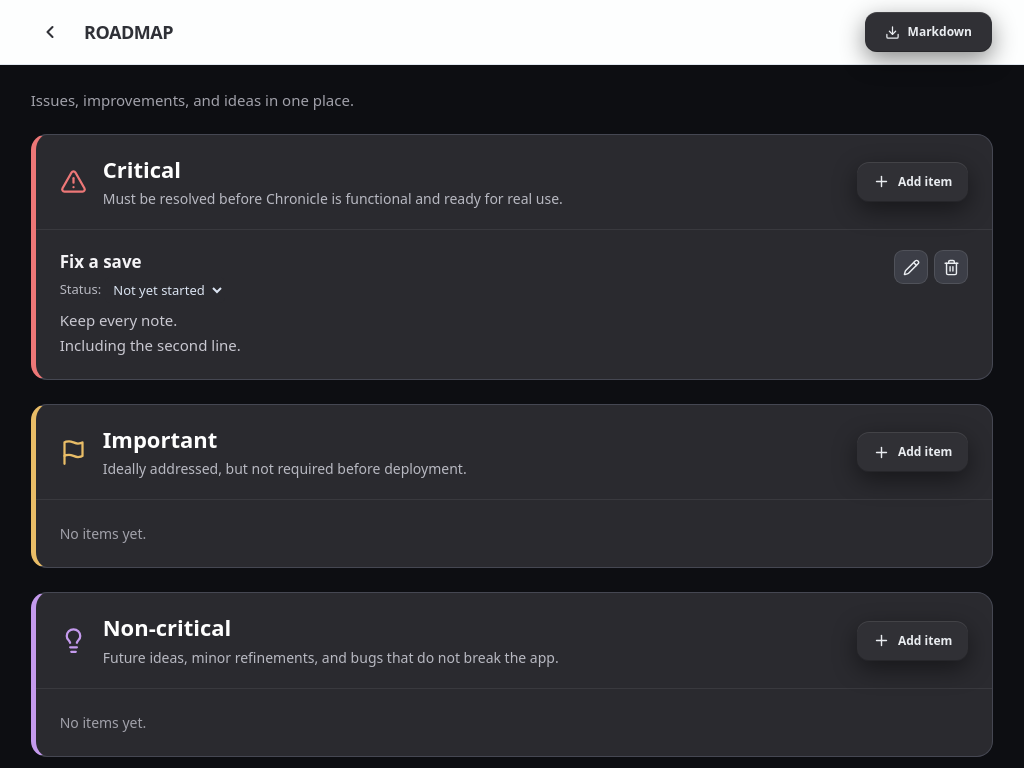
Test: Chronicle Roadmap › saves while a background read is pending and never replaces the acknowledged save with its late result
expect the heading "Critical" is shown: met, box [103,154,181,184]
Click the button named "Edit Fix a save". click: (911, 267)
box: [894,250,928,284]
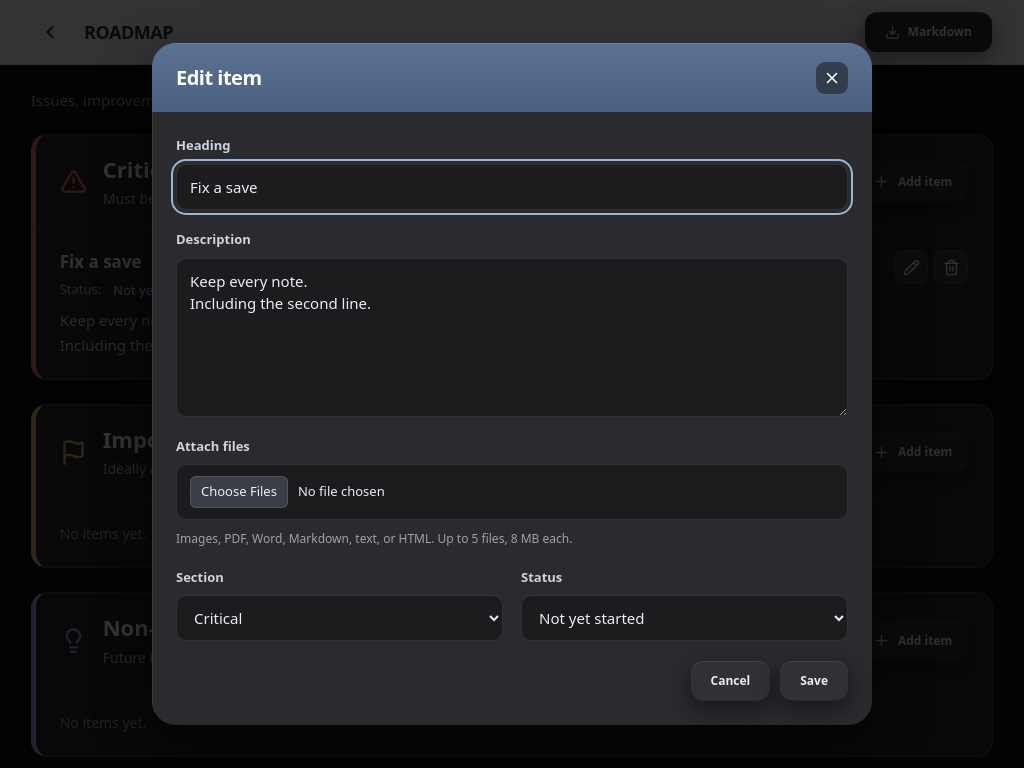
Replace the text in the field labelled "Heading" with "Saved while refreshing". click: (512, 187)
box: [176,164,848,210]
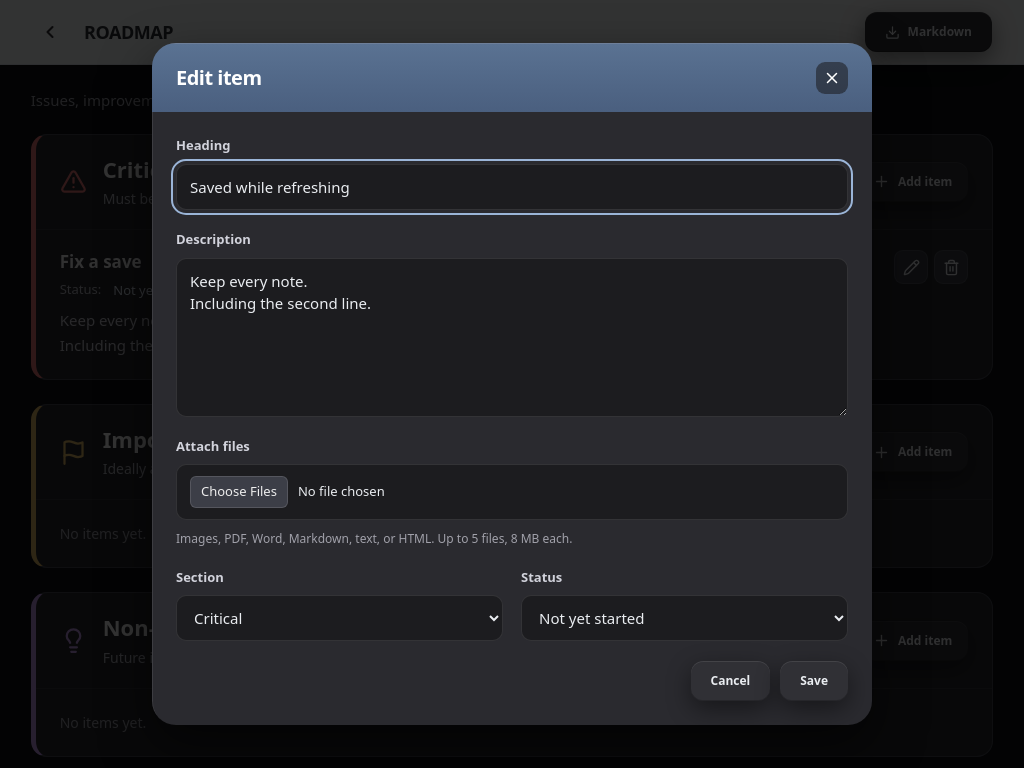
Click the button "Save". click: (814, 681)
box: [780,661,848,701]
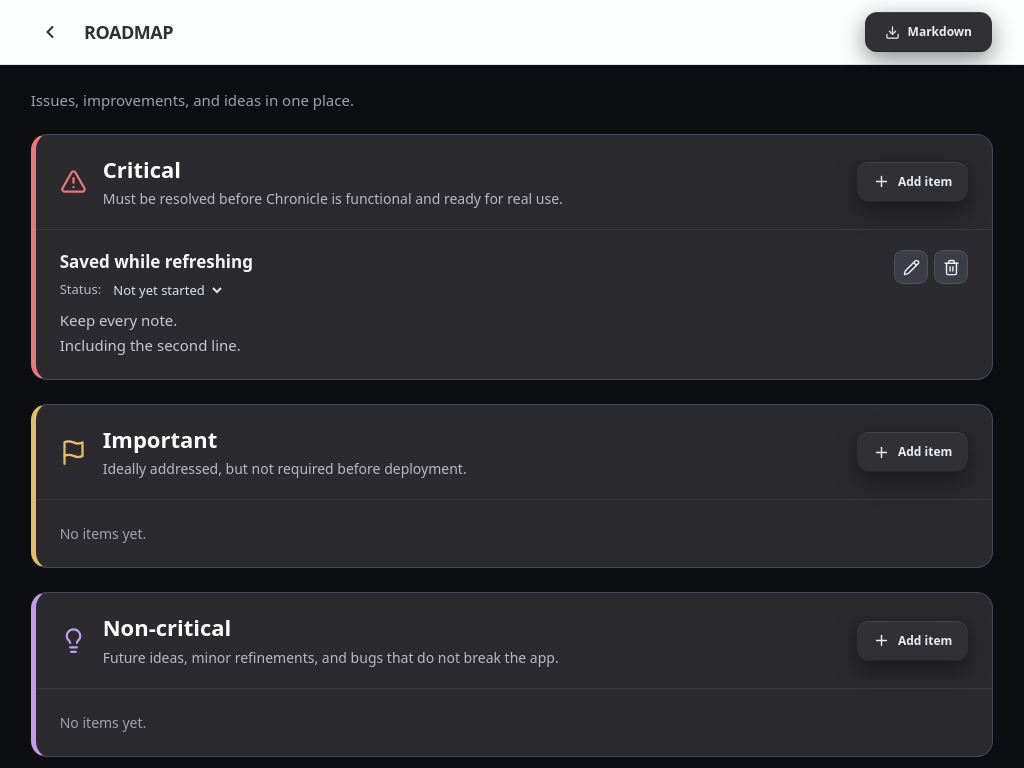
expect the dialog is gone: met
expect the heading "Saved while refreshing" is shown: met, box [60,250,253,273]
expect the heading "Fix a save" is gone: met
